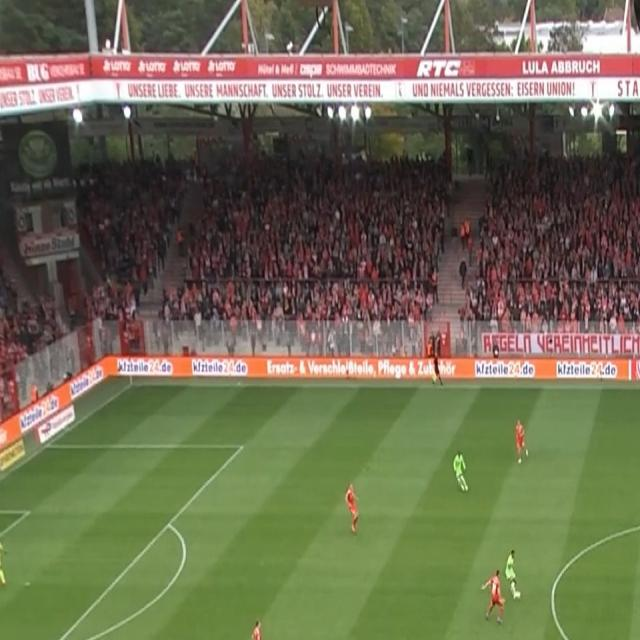ball: (514, 588, 521, 601)
